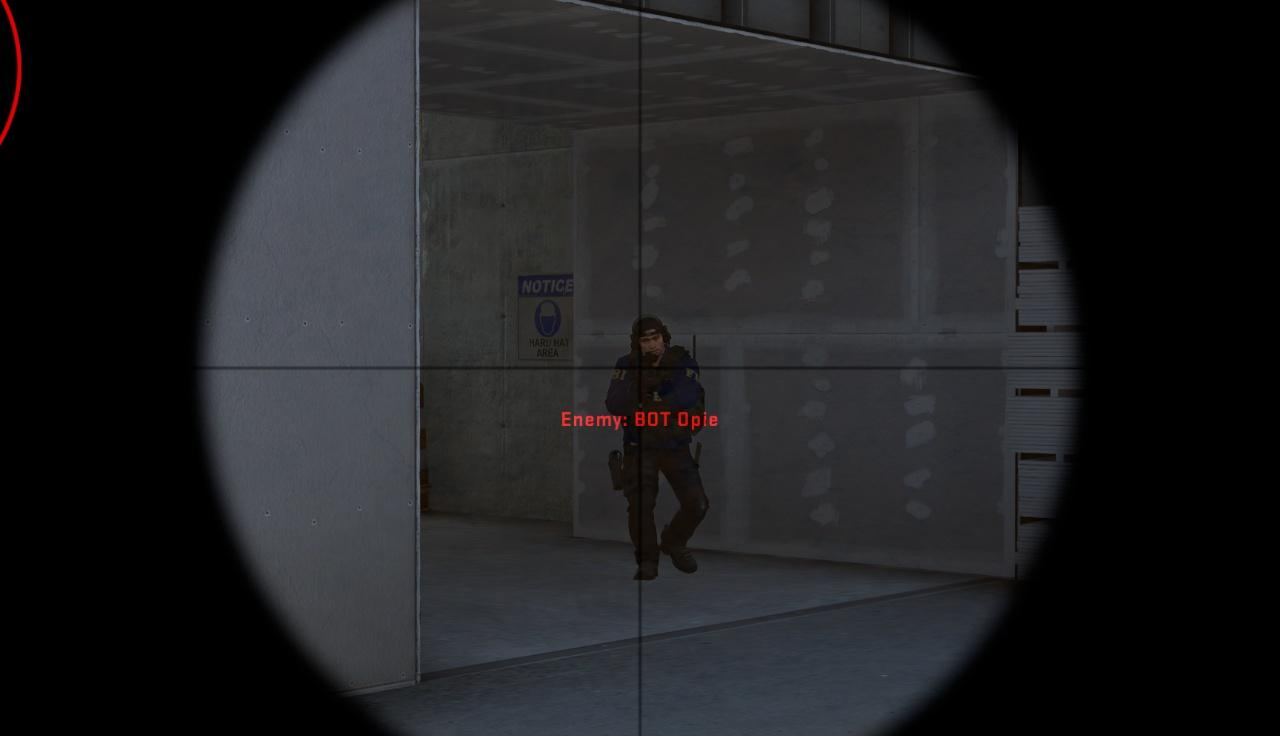ct: (612, 318, 702, 568)
cthead: (630, 318, 667, 358)
